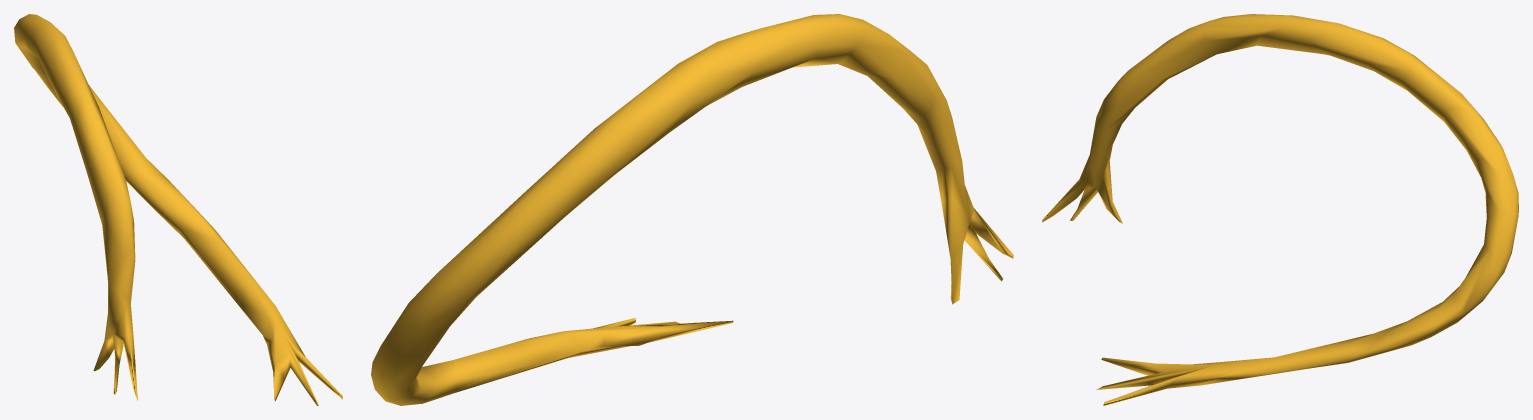
File: nervoso-stria-terminalis-l.glb
The picture shows the model from 3 angles, left to right: view 1: azimuth 30°, elevation 25°; view 2: azimuth 150°, elevation 25°; view 3: azimuth 270°, elevation 25°; orthographic projection. The views are drawn at different scales.
Parts seen in each view (by area): view 1: Stria terminalis.l; view 2: Stria terminalis.l; view 3: Stria terminalis.l.
Boxes of the visible parts, x1,y1,x2,y2 form: Stria terminalis.l: (14, 14, 342, 405); Stria terminalis.l: (371, 14, 1013, 405); Stria terminalis.l: (1042, 14, 1518, 405).
Size of the model in its own units: 0.0249 by 0.0299 by 0.0423.
